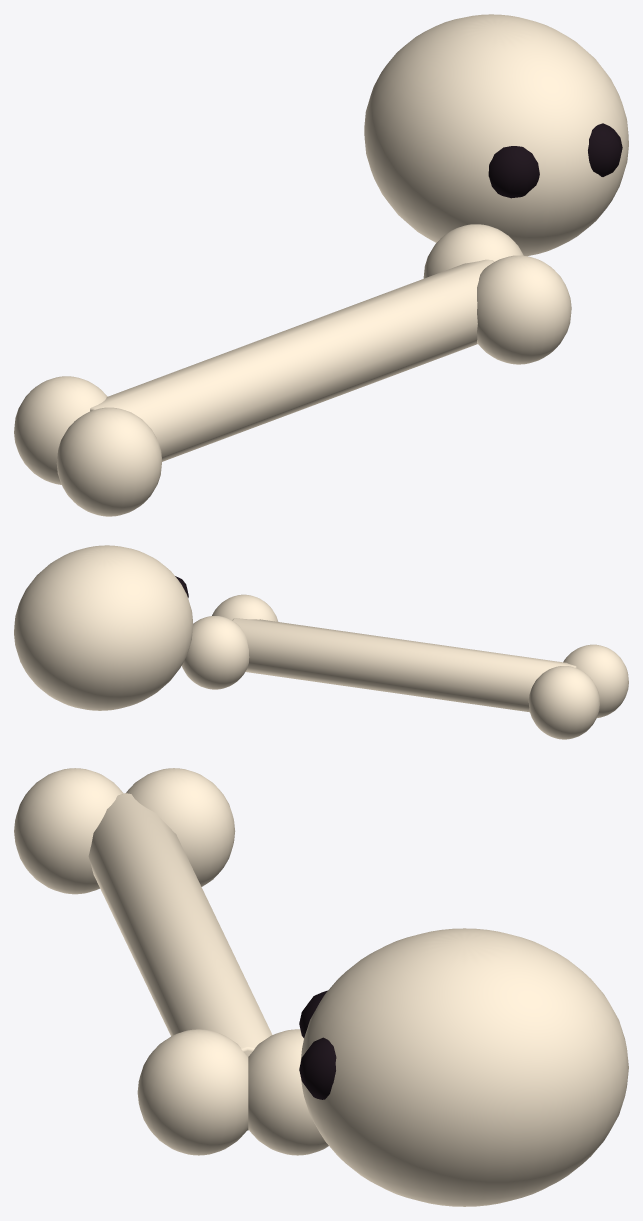
The model's file is tulang.glb.
The picture shows the model from 3 angles, top to bottom: view 1: azimuth 30°, elevation 25°; view 2: azimuth 150°, elevation 25°; view 3: azimuth 270°, elevation 25°; orthographic projection. The views are drawn at different scales.
Visible parts, largest first — view 1: Sphere.004, Cylinder, Sphere, Sphere.002, Sphere.001, Sphere.003, Sphere.005, Sphere.006; view 2: Sphere.004, Cylinder, Sphere.001, Sphere.003, Sphere, Sphere.002; view 3: Sphere.004, Cylinder, Sphere.002, Sphere, Sphere.001, Sphere.003, Sphere.006.
Part boxes in pixels (x1=…): Sphere.004: x1=364, y1=14, x2=628, y2=256; Cylinder: x1=90, y1=259, x2=493, y2=461; Sphere: x1=56, y1=407, x2=162, y2=516; Sphere.002: x1=477, y1=255, x2=571, y2=364; Sphere.001: x1=14, y1=376, x2=107, y2=484; Sphere.003: x1=423, y1=224, x2=523, y2=278; Sphere.005: x1=488, y1=146, x2=539, y2=198; Sphere.006: x1=588, y1=123, x2=622, y2=176; Sphere.004: x1=14, y1=545, x2=192, y2=710; Cylinder: x1=232, y1=618, x2=576, y2=712; Sphere.001: x1=528, y1=666, x2=599, y2=739; Sphere.003: x1=181, y1=616, x2=249, y2=689; Sphere: x1=563, y1=644, x2=628, y2=717; Sphere.002: x1=212, y1=594, x2=278, y2=621; Sphere.004: x1=300, y1=928, x2=628, y2=1206; Cylinder: x1=88, y1=793, x2=272, y2=1130; Sphere.002: x1=137, y1=1029, x2=248, y2=1155; Sphere: x1=14, y1=768, x2=123, y2=894; Sphere.001: x1=126, y1=768, x2=235, y2=886; Sphere.003: x1=248, y1=1029, x2=328, y2=1155; Sphere.006: x1=299, y1=1037, x2=336, y2=1099.
Size of the model in its own units: 6.16 by 1.85 by 3.98.
